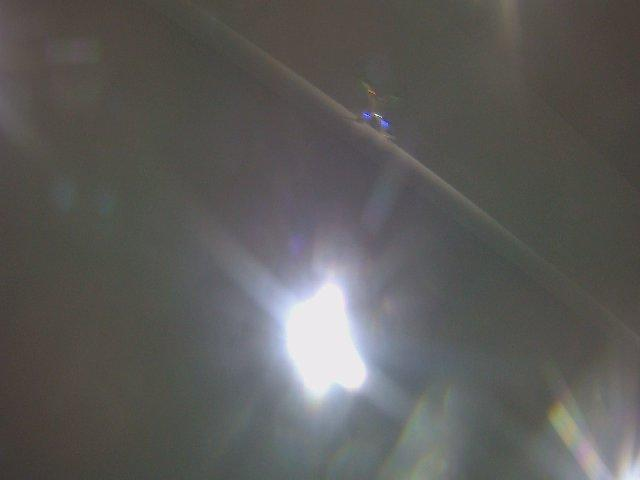drone: (344, 55, 408, 150)
